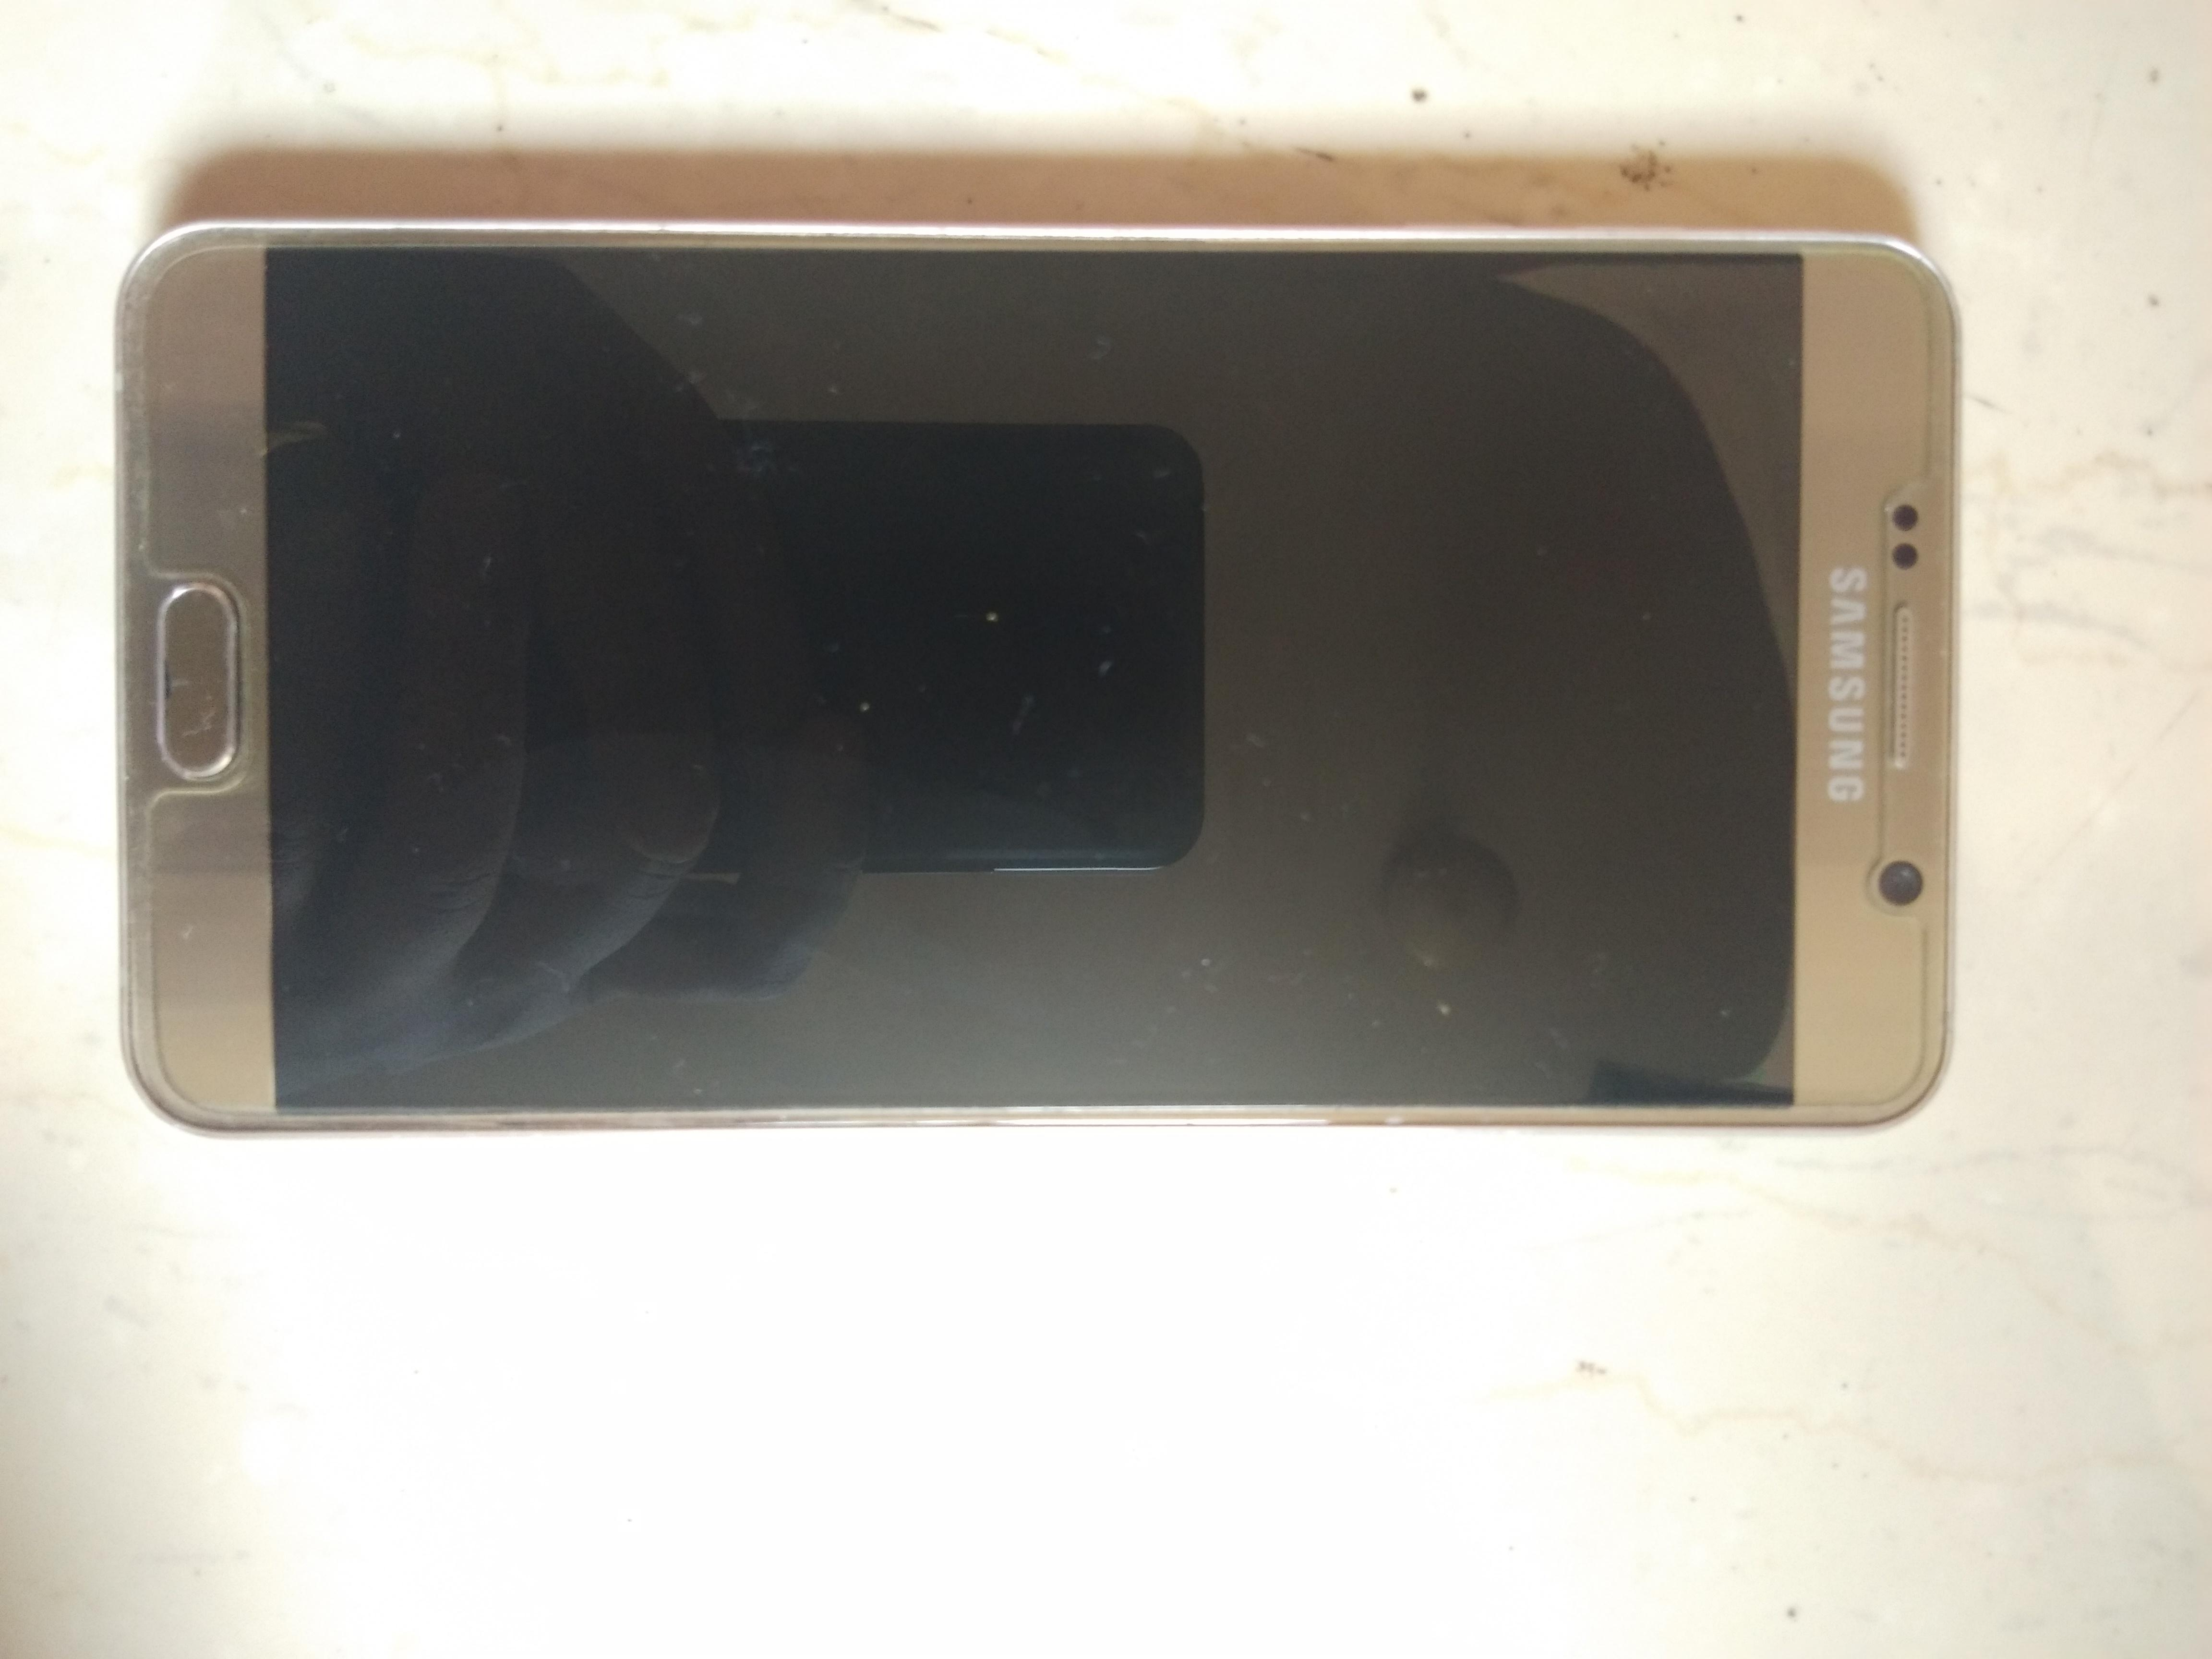Phone: (78, 178, 2050, 1180)
